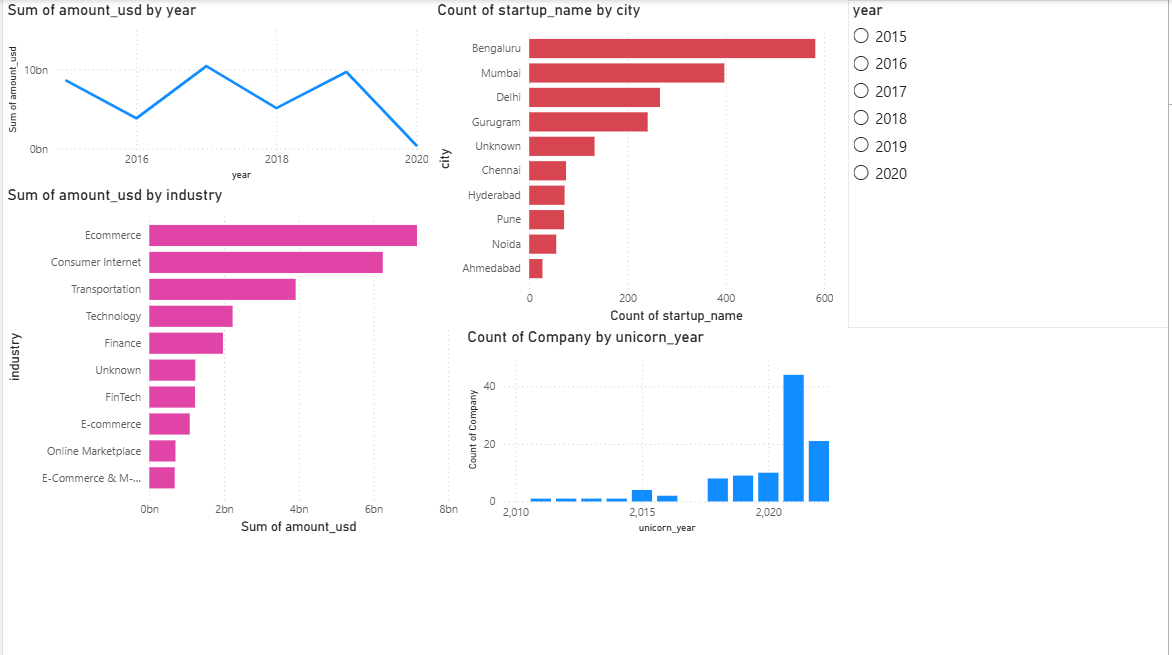

What the dashboard file says about the page in this screenshot:
{"tool":"powerbi","page":{"name":"Page 1","canvas":[1280,720],"ordinal":0},"visuals":[{"type":"lineChart","fields":{"Y":["Sum(startup_funding_cleaned.amount_usd)"],"Category":["startup_funding_cleaned.year"]},"box":[0,0,472,203.1],"z":0},{"type":"clusteredBarChart","fields":{"Category":["startup_funding_cleaned.industry"],"Y":["Sum(startup_funding_cleaned.amount_usd)"]},"box":[0,203.1,505,388.3],"z":1},{"type":"clusteredBarChart","fields":{"Category":["startup_funding_cleaned.city"],"Y":["CountNonNull(startup_funding_cleaned.startup_name)"]},"box":[472,0,444.6,359.5],"z":2},{"type":"clusteredColumnChart","fields":{"Category":["unicorns.unicorn_year"],"Y":["CountNonNull(unicorns.Company)"]},"box":[505,360,412,231],"z":3},{"type":"listSlicer","fields":{"Values":["startup_funding_cleaned.year"]},"box":[927,0,353,360],"z":4}]}

Visuals, with their boxes in screenshot pixels (x1, y1, x2, y2), scaled from the page's 1280x720 canvas onto the 1172x655 screenshot:
lineChart - Sum(startup_funding_cleaned.amount_usd) x startup_funding_cleaned.year: {"left": 0, "top": 0, "right": 432, "bottom": 185}
clusteredBarChart - startup_funding_cleaned.industry x Sum(startup_funding_cleaned.amount_usd): {"left": 0, "top": 185, "right": 462, "bottom": 538}
clusteredBarChart - startup_funding_cleaned.city x CountNonNull(startup_funding_cleaned.startup_name): {"left": 432, "top": 0, "right": 839, "bottom": 327}
clusteredColumnChart - unicorns.unicorn_year x CountNonNull(unicorns.Company): {"left": 462, "top": 328, "right": 840, "bottom": 538}
listSlicer - startup_funding_cleaned.year: {"left": 849, "top": 0, "right": 1171, "bottom": 328}
